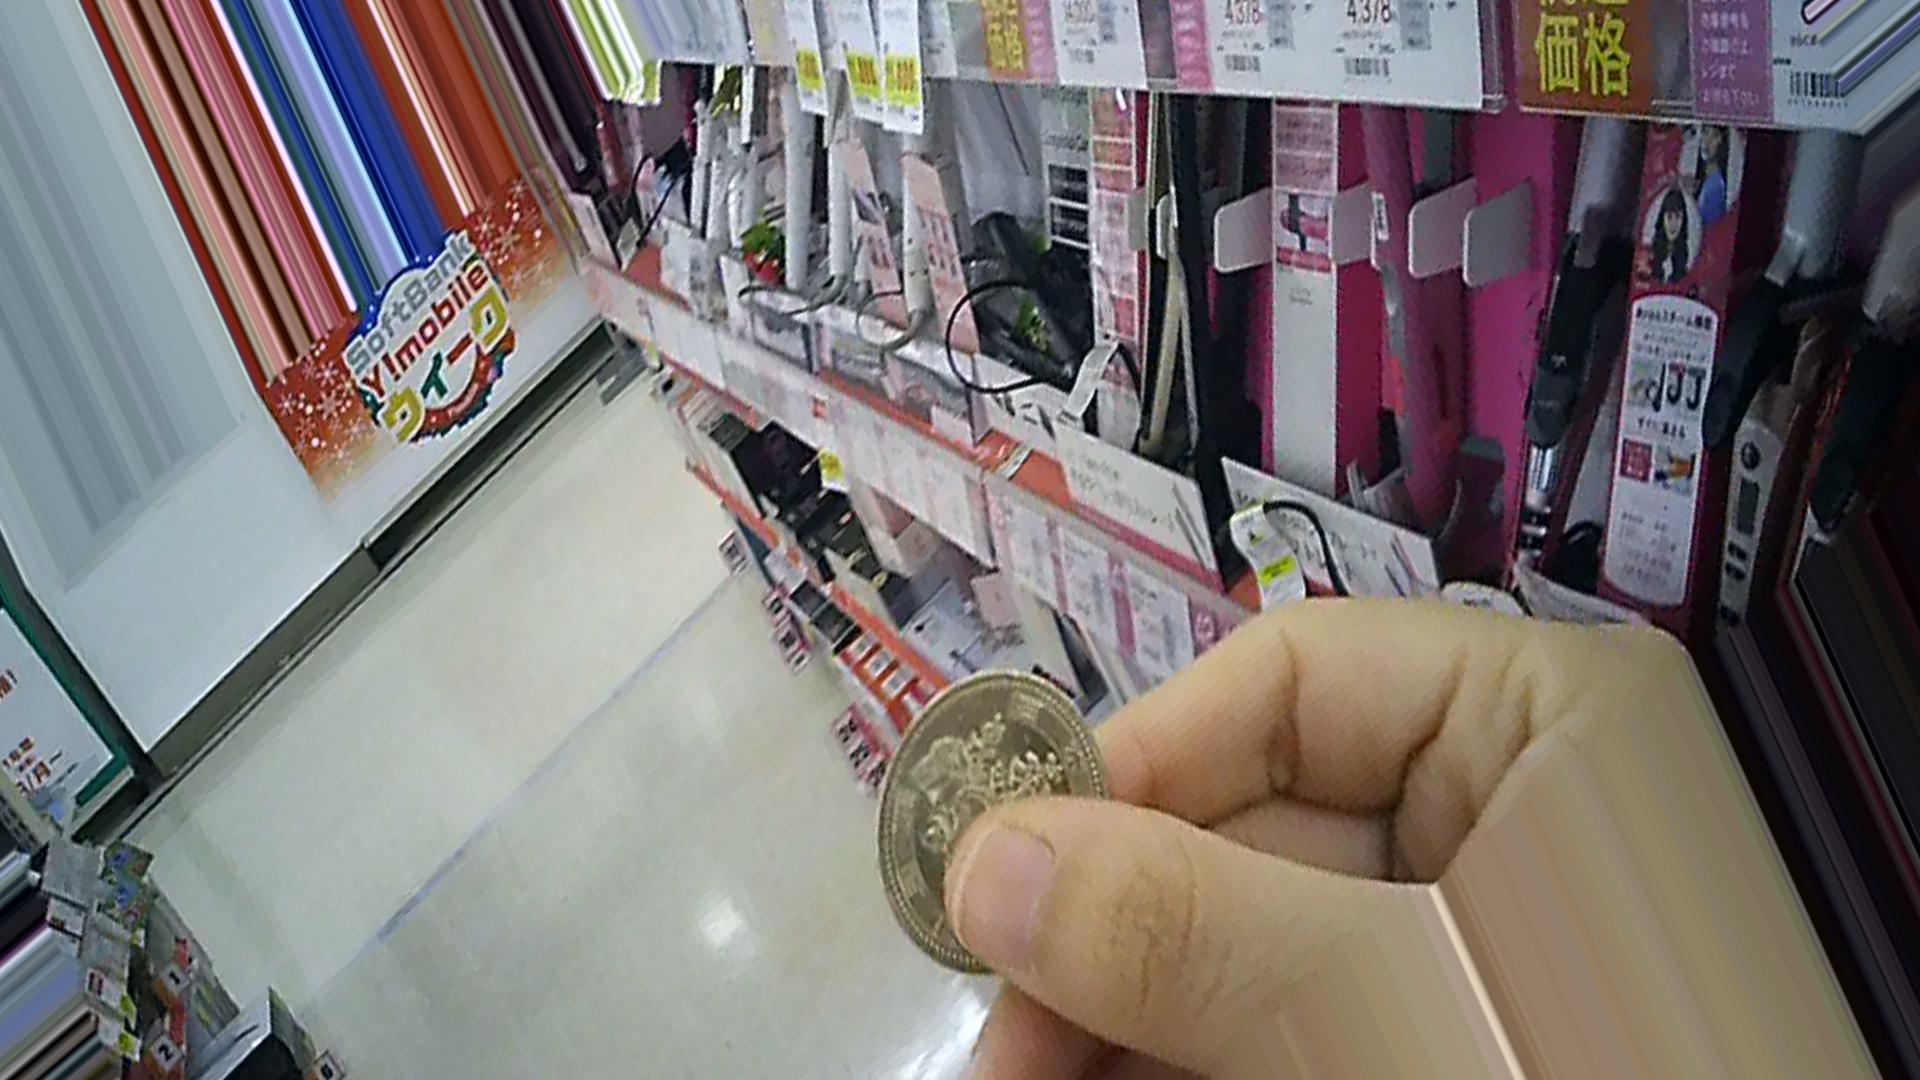500 Yen: (868, 669, 1108, 949)
